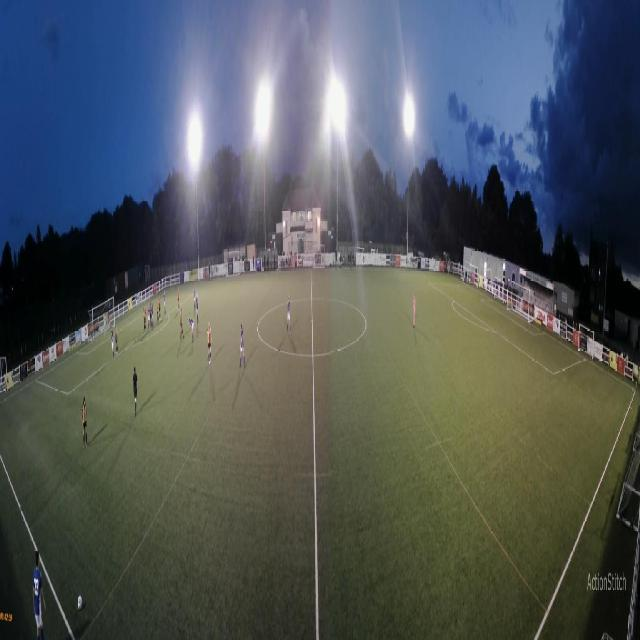ball: (78, 594, 83, 611)
player: (82, 397, 88, 449), (132, 366, 138, 417), (206, 321, 212, 366), (240, 324, 246, 369), (287, 297, 291, 335), (189, 317, 195, 342), (181, 306, 185, 341), (413, 292, 416, 328), (115, 325, 118, 355), (196, 294, 199, 324), (111, 331, 114, 359), (163, 291, 166, 318), (156, 298, 159, 324), (151, 303, 154, 329), (148, 305, 151, 331), (145, 306, 148, 332), (177, 287, 180, 312), (104, 312, 107, 334), (150, 302, 152, 329), (143, 307, 145, 333), (159, 296, 161, 321), (194, 287, 196, 311)
